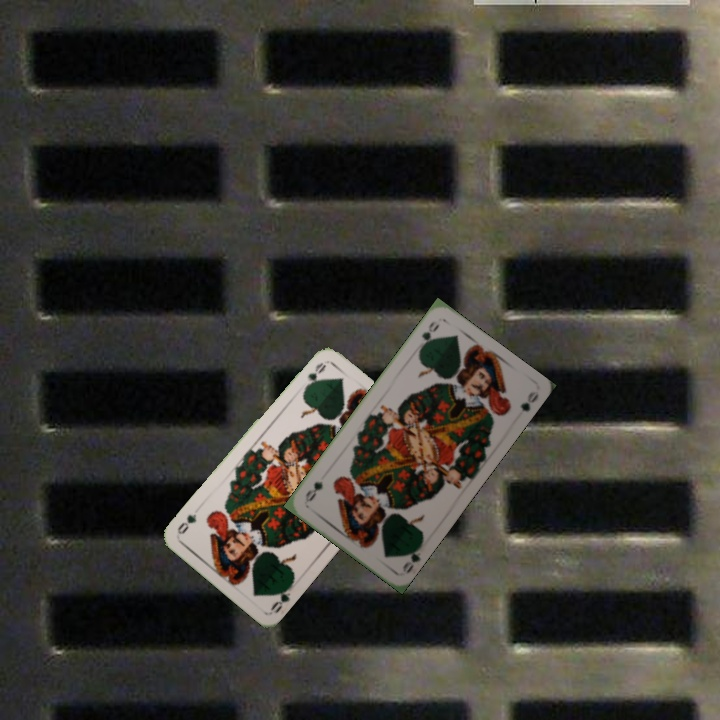GO: (267, 579, 296, 616), (300, 358, 329, 394), (398, 539, 425, 576), (415, 317, 442, 353)
